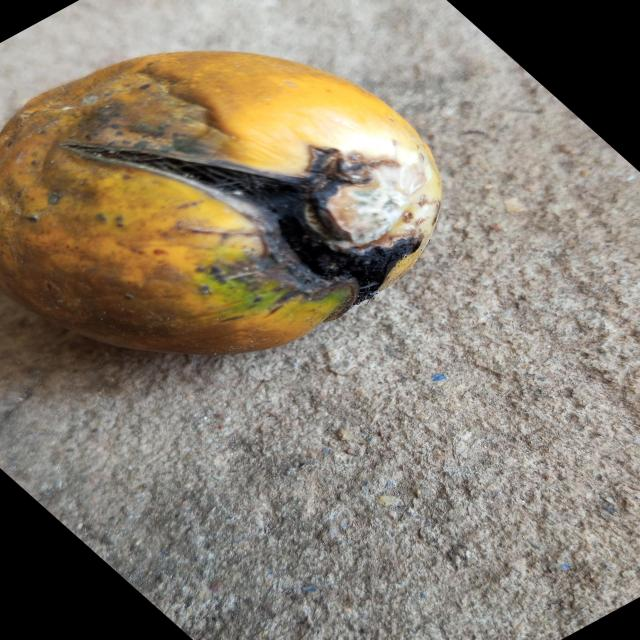damaged: (0, 51, 444, 357)
